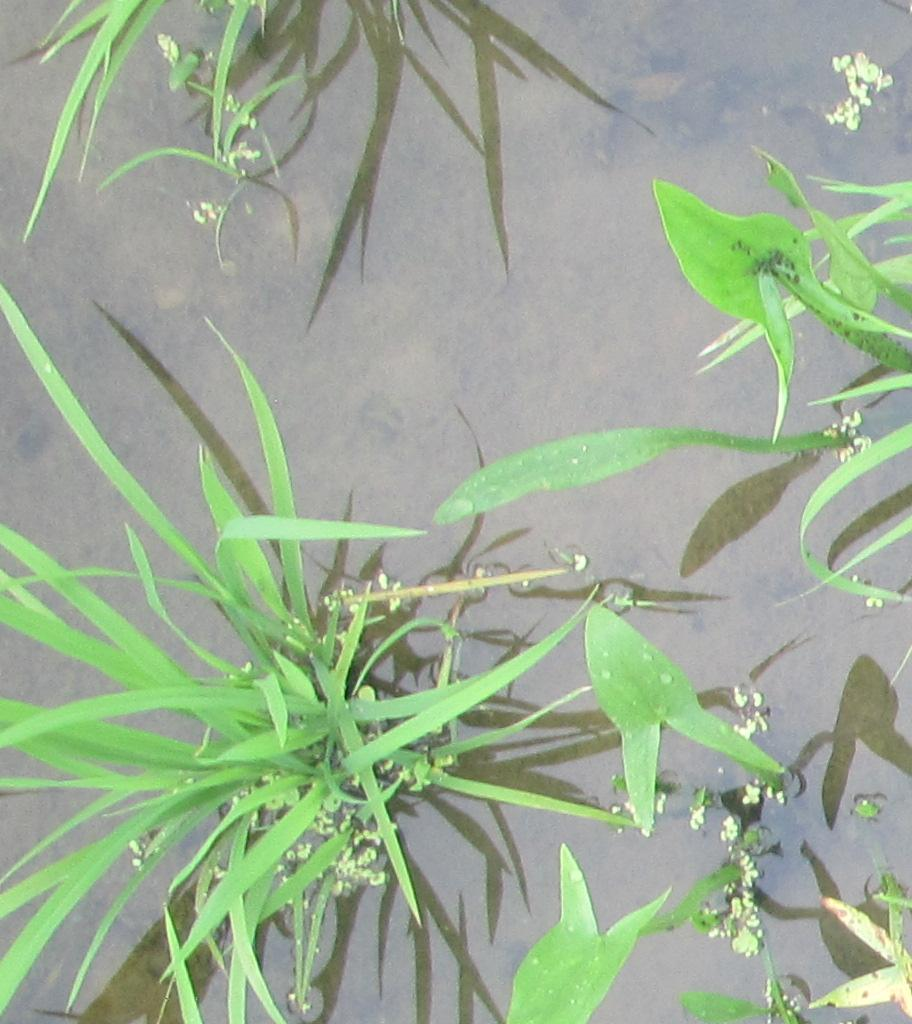Weed: (582, 600, 791, 822), (646, 166, 819, 336), (507, 877, 636, 1022)
